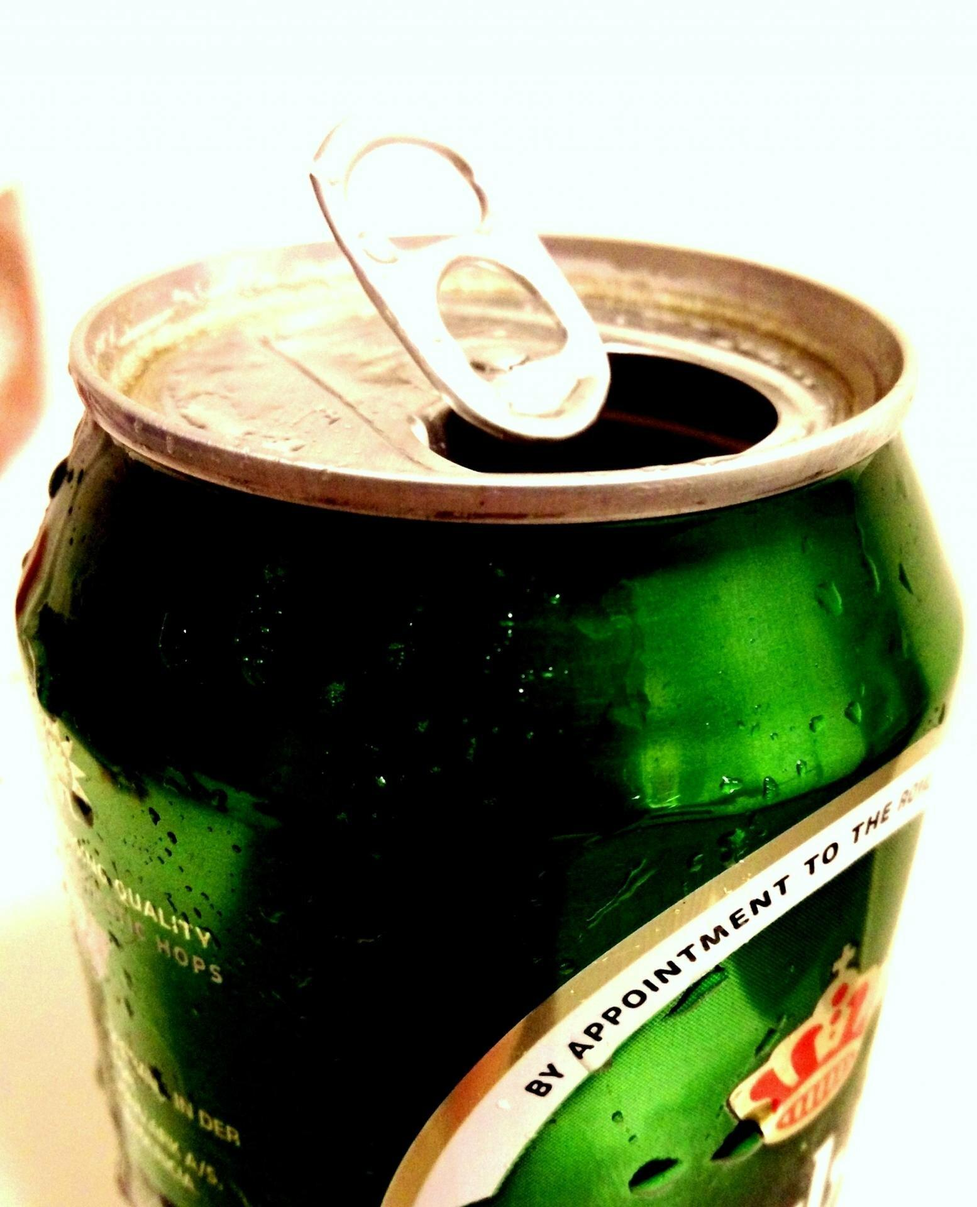metal: (17, 130, 959, 1207), (451, 807, 914, 1207)
